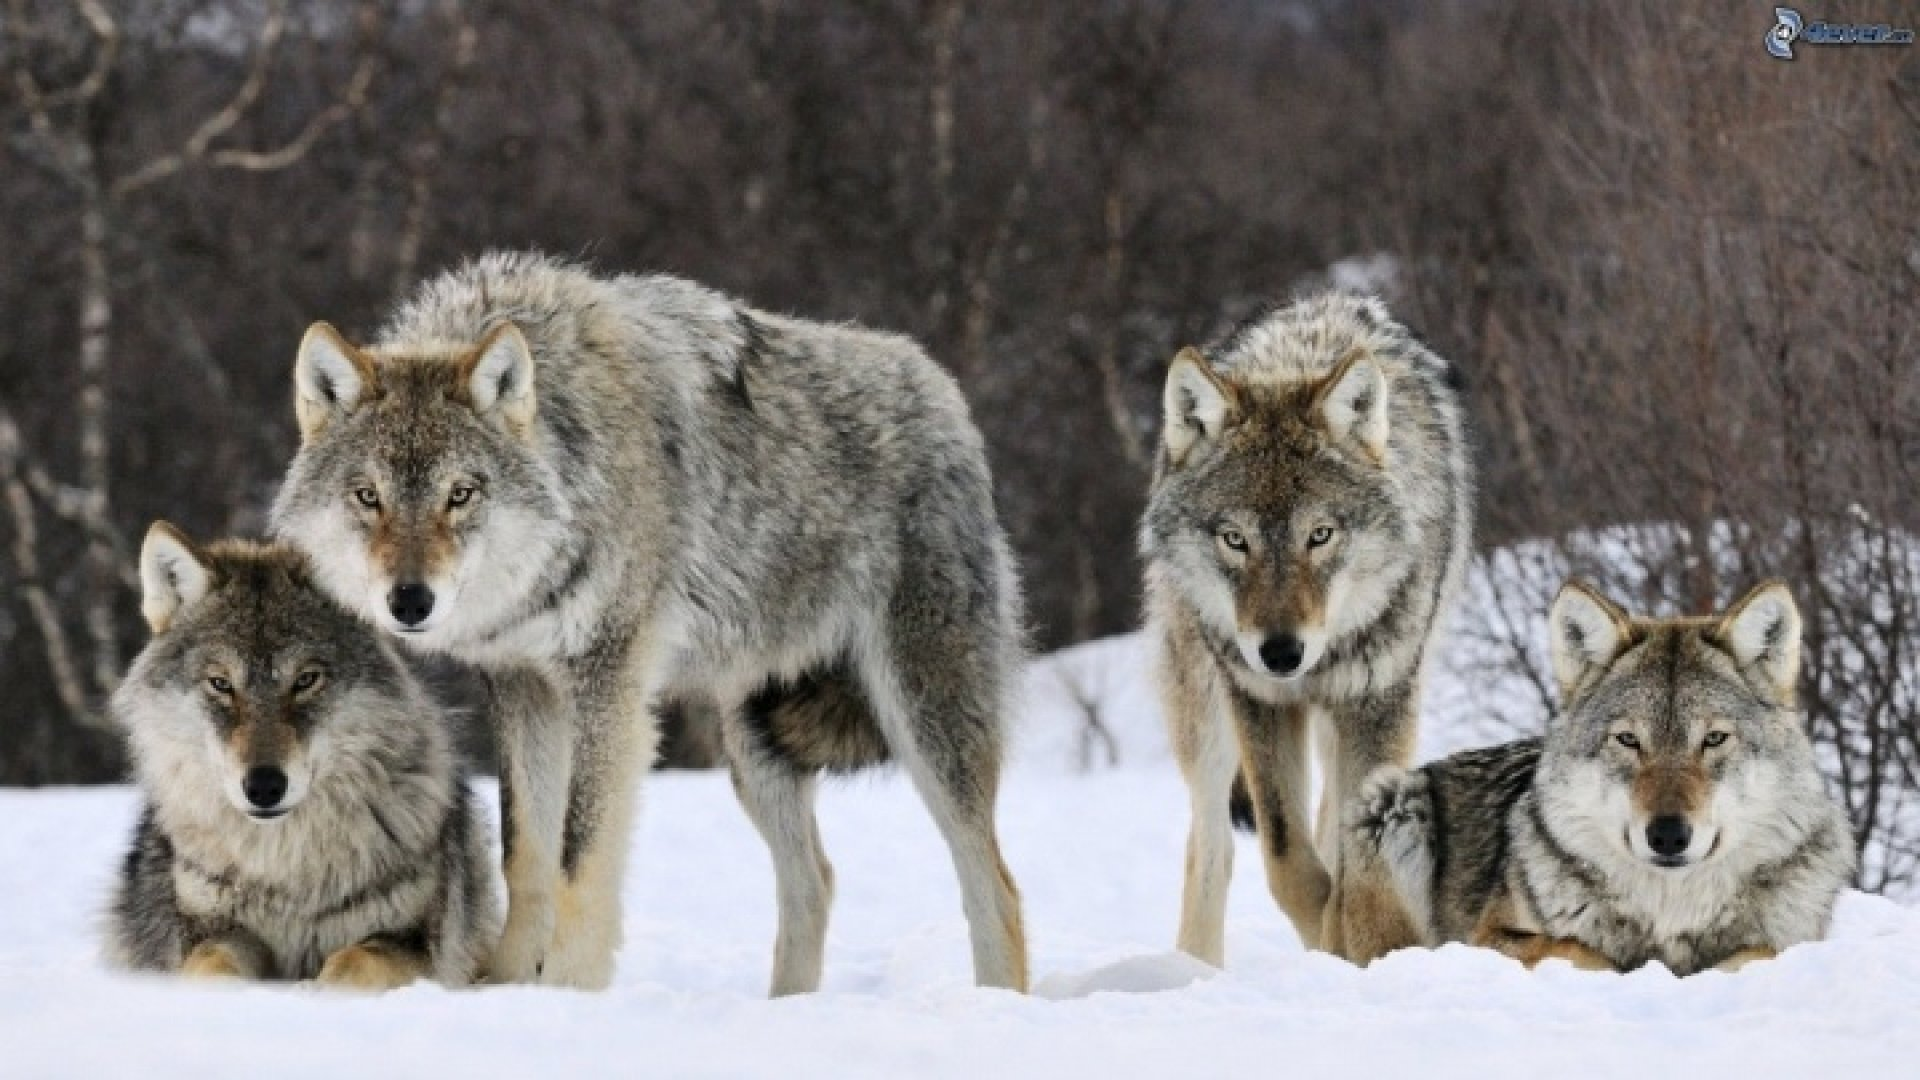wolf: (316, 243, 1044, 953), (1117, 303, 1468, 981), (1345, 634, 1853, 963), (164, 448, 448, 988)
